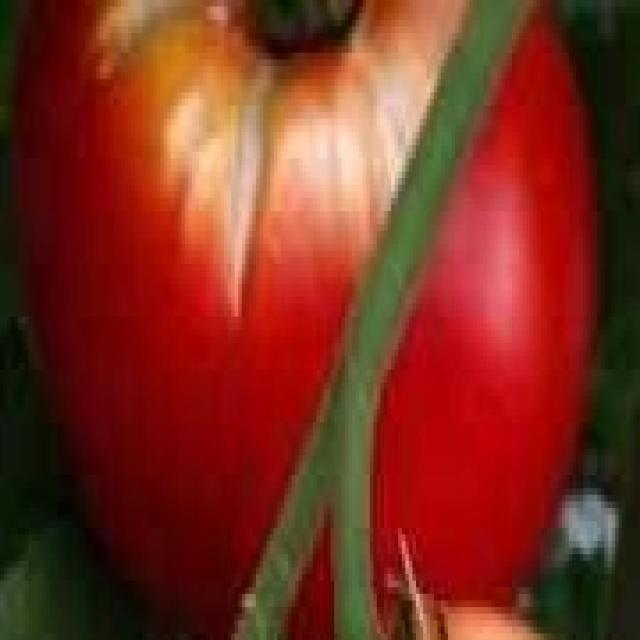Sunscald Fruit: (47, 0, 353, 198)
